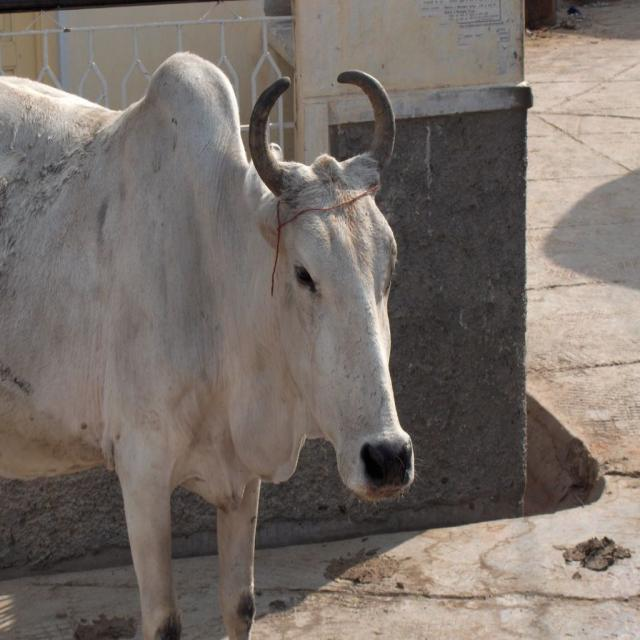Cattle: (0, 19, 430, 640)
